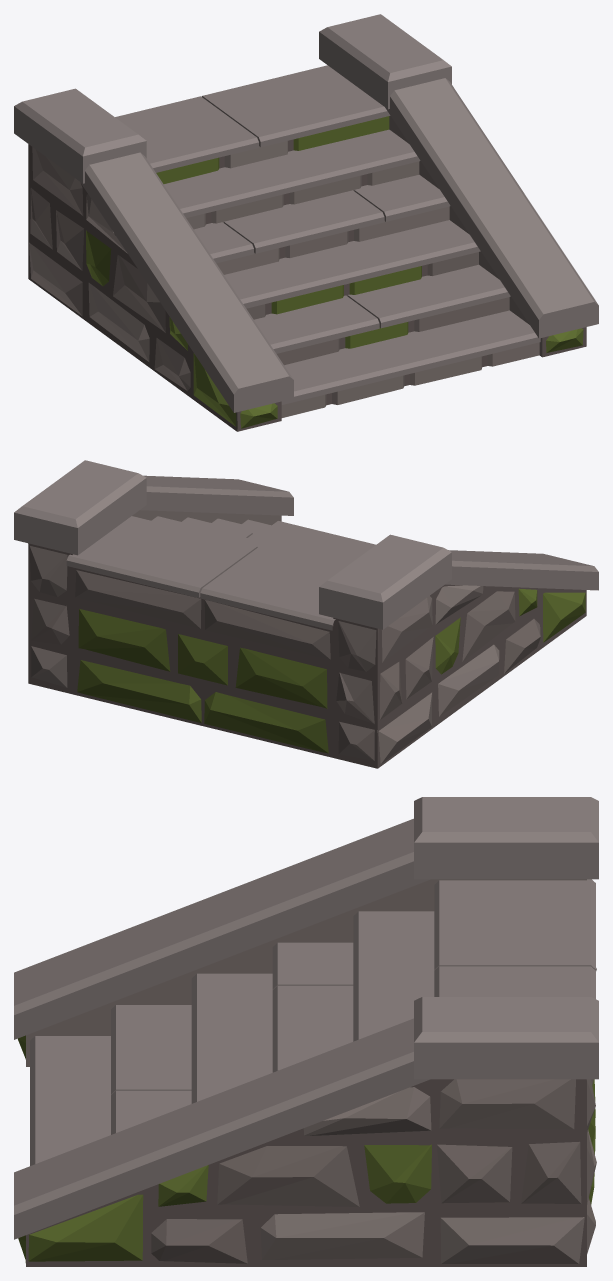
Rendered from mossy-stone-steps-1beb4d.glb.
3 views of the same model, one above another, from view 1: azimuth 30°, elevation 25°; view 2: azimuth 150°, elevation 25°; view 3: azimuth 270°, elevation 25° (orthographic). The views are drawn at different scales.
Parts seen in each view (by area): view 1: mossy-stone-steps-body; view 2: mossy-stone-steps-body; view 3: mossy-stone-steps-body.
Part boxes in pixels (left/top/right/bottom): mossy-stone-steps-body: left=14, top=14, right=598, bottom=431; mossy-stone-steps-body: left=14, top=460, right=598, bottom=768; mossy-stone-steps-body: left=14, top=797, right=598, bottom=1266.
Size of the model in its own units: 2.83 by 1.3 by 2.89.
